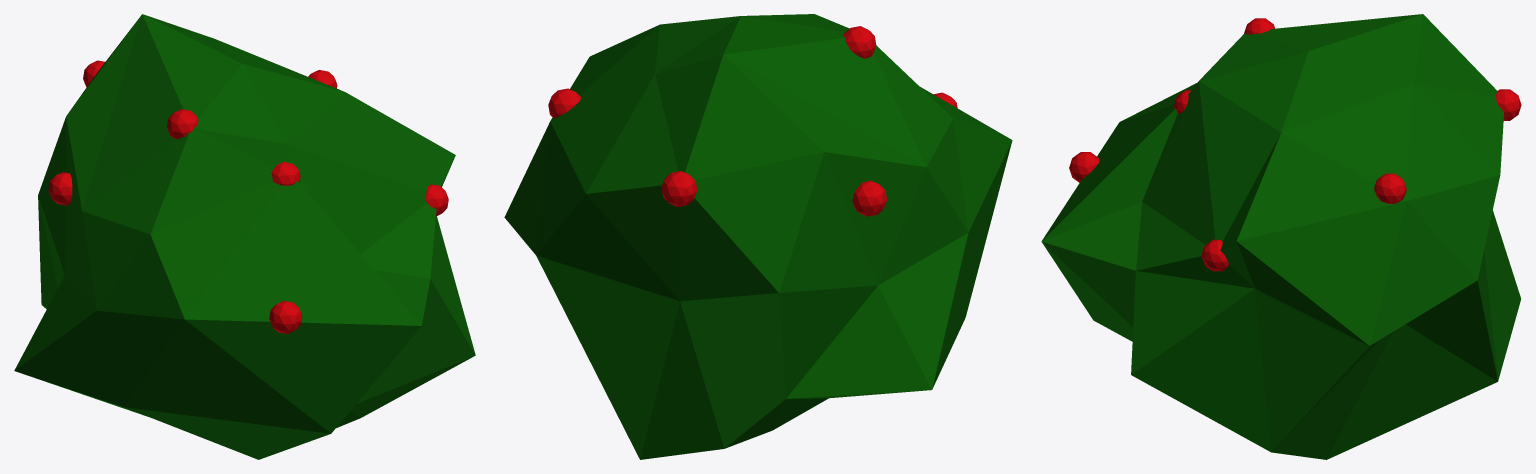
The model's file is Bush1.fbx.
3 renders of one model, left to right at view 1: azimuth 30°, elevation 25°; view 2: azimuth 150°, elevation 25°; view 3: azimuth 270°, elevation 25°, orthographic. The views are drawn at different scales.
Parts seen in each view (by area): view 1: Bush, Berries; view 2: Bush, Berries; view 3: Bush, Berries.
Part boxes in pixels (bbox=[...]): Bush: bbox=[14, 14, 475, 459]; Berries: bbox=[48, 60, 448, 333]; Bush: bbox=[504, 14, 1012, 459]; Berries: bbox=[548, 26, 957, 216]; Bush: bbox=[1041, 14, 1520, 459]; Berries: bbox=[1069, 18, 1521, 271].
Bounding box in the file's own units: 57.13 × 55.5 × 62.09.
